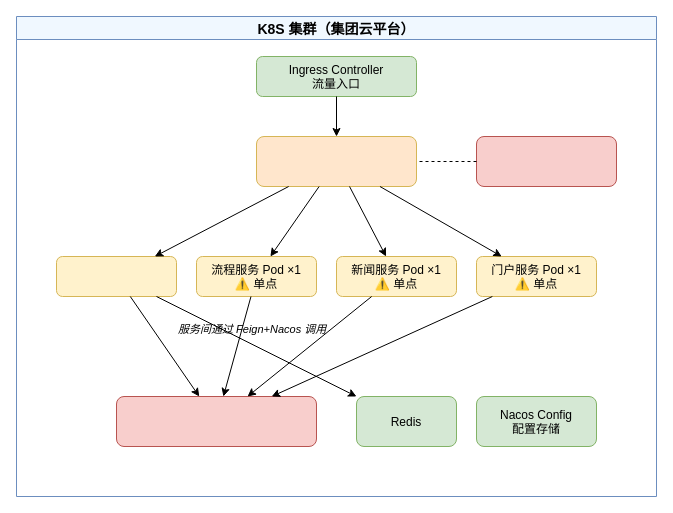
The diagram is 673 pixels wide and 513 high, and some of its shapes have lost their labels. The shapes that lost their labels are listed below. From the top down, each one's centre as x and y in pixels, then its label:
At (336,161): "Gateway Pod ×1 鉴权/路由/限流 ⚠️ 单点".
At (546,161): "Nacos Pod ×1 服务注册/配置中心 ⚠️ 单点".
At (116,276): "待办服务 Pod ×1 ⚠️ 单点".
At (216,421): "MySQL 共享实例 ⚠️ 多项目共用，无隔离".
